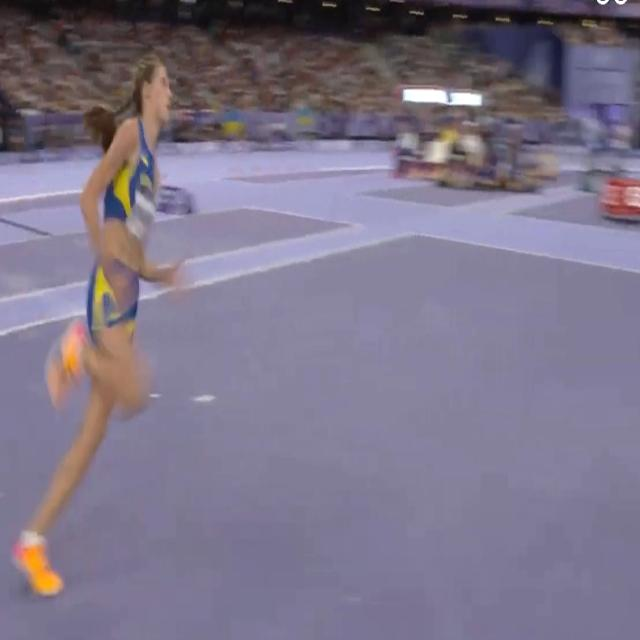run: (10, 55, 192, 602)
